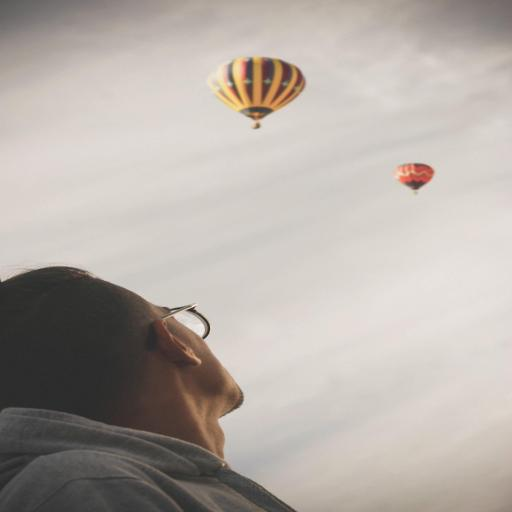hot air ballon: (206, 53, 307, 134), (399, 157, 437, 197)
